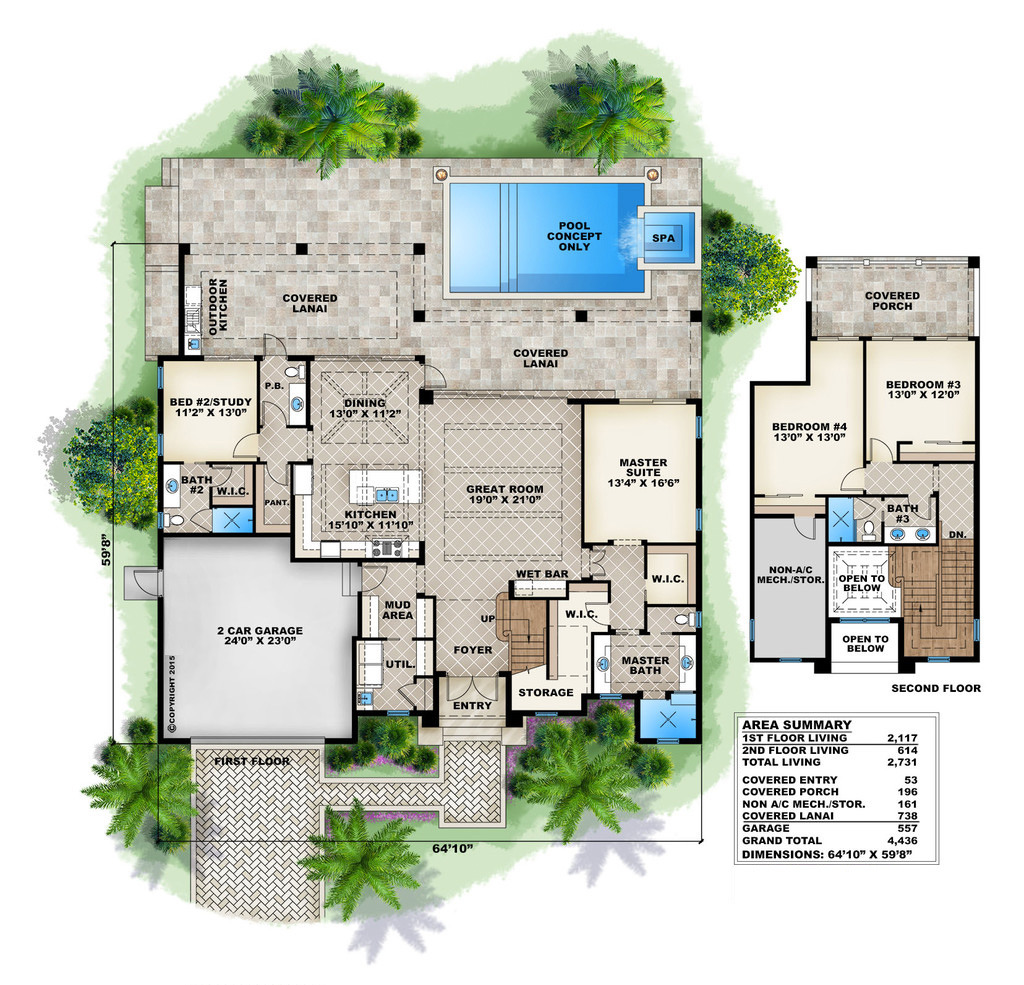door: (438, 677, 496, 704), (227, 432, 265, 459), (356, 563, 388, 591), (863, 434, 890, 467), (132, 566, 157, 598), (263, 458, 289, 488), (255, 334, 288, 357)
stairs: (508, 624, 550, 683)
